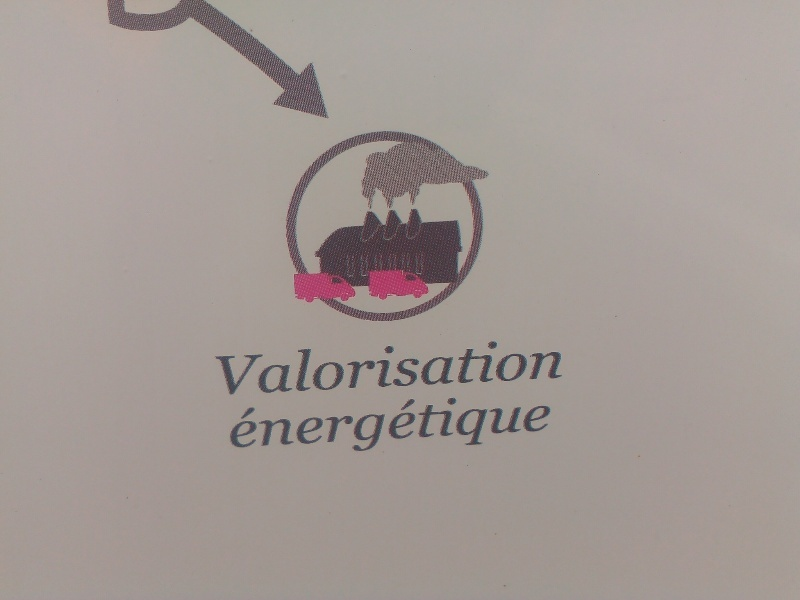text: (241, 394, 256, 459), (257, 394, 272, 459), (273, 394, 288, 459), (289, 394, 304, 459), (305, 394, 320, 459), (321, 394, 336, 459), (337, 394, 352, 459), (353, 394, 368, 459), (369, 394, 384, 459), (385, 394, 400, 459), (401, 394, 416, 459), (417, 394, 432, 459), (433, 394, 448, 459), (449, 394, 464, 459), (465, 394, 480, 459), (481, 394, 496, 459), (497, 394, 512, 459), (513, 394, 528, 459), (529, 394, 544, 459), (225, 335, 240, 397), (241, 335, 256, 397), (257, 335, 272, 397), (273, 335, 288, 397), (289, 335, 304, 397), (305, 335, 320, 397), (321, 335, 336, 397), (337, 335, 352, 397), (353, 335, 368, 397), (369, 335, 384, 397), (385, 335, 400, 397), (401, 335, 416, 397), (417, 335, 432, 397), (433, 335, 448, 397), (449, 335, 464, 397), (465, 335, 480, 397), (481, 335, 496, 397), (497, 335, 512, 397), (513, 335, 528, 397), (529, 335, 544, 397), (545, 335, 560, 397), (213, 335, 224, 397), (231, 394, 240, 459), (545, 394, 554, 459), (561, 335, 565, 397)
